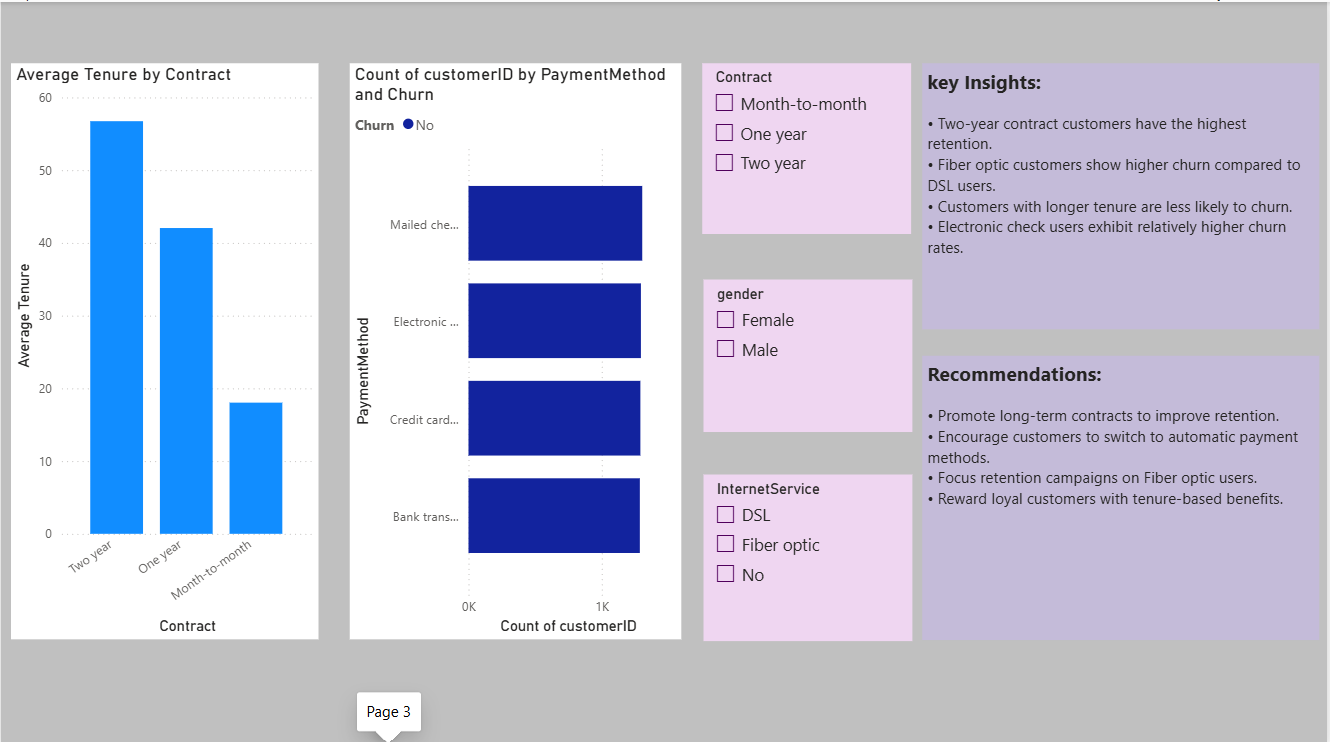

This screenshot's page, from the dashboard's own definition file:
{"tool":"powerbi","page":{"name":"Page 3","canvas":[1280,720],"ordinal":2},"visuals":[{"type":"textbox","box":[889.2,59,382.8,256.6],"z":0},{"type":"textbox","box":[10,290,280,280],"z":1000},{"type":"textbox","box":[889.2,341.7,382.8,274.4],"z":2000},{"type":"clusteredColumnChart","fields":{"Category":["WA_Fn-UseC_-Telco-Customer-Churn.Contract"],"Y":["WA_Fn-UseC_-Telco-Customer-Churn.Average Tenure"]},"box":[9.7,59.1,296.8,556.2],"z":3000},{"type":"clusteredBarChart","fields":{"Category":["WA_Fn-UseC_-Telco-Customer-Churn.PaymentMethod"],"Y":["CountNonNull(WA_Fn-UseC_-Telco-Customer-Churn.customerID)"],"Series":["WA_Fn-UseC_-Telco-Customer-Churn.Churn"]},"box":[336.6,59.1,319.7,556.2],"z":4000},{"type":"slicer","fields":{"Values":["WA_Fn-UseC_-Telco-Customer-Churn.Contract"]},"box":[676.5,59,201.7,164.7],"z":5000},{"type":"slicer","fields":{"Values":["WA_Fn-UseC_-Telco-Customer-Churn.gender"]},"box":[677.9,267.6,201.7,146.8],"z":6000},{"type":"slicer","fields":{"Values":["WA_Fn-UseC_-Telco-Customer-Churn.InternetService"]},"box":[677.9,455.6,201.7,160.5],"z":7000}]}

Visuals, with their boxes in screenshot pixels (x1, y1, x2, y2), scaled from the page's 1280x720 canvas onto the 1330x742 screenshot:
textbox: (x1=924, y1=61, x2=1322, y2=325)
textbox: (x1=10, y1=299, x2=301, y2=587)
textbox: (x1=924, y1=352, x2=1322, y2=635)
clusteredColumnChart - WA_Fn-UseC_-Telco-Customer-Churn.Contract x WA_Fn-UseC_-Telco-Customer-Churn.Average Tenure: (x1=10, y1=61, x2=318, y2=634)
clusteredBarChart - WA_Fn-UseC_-Telco-Customer-Churn.PaymentMethod x CountNonNull(WA_Fn-UseC_-Telco-Customer-Churn.customerID): (x1=350, y1=61, x2=682, y2=634)
slicer - WA_Fn-UseC_-Telco-Customer-Churn.Contract: (x1=703, y1=61, x2=913, y2=231)
slicer - WA_Fn-UseC_-Telco-Customer-Churn.gender: (x1=704, y1=276, x2=914, y2=427)
slicer - WA_Fn-UseC_-Telco-Customer-Churn.InternetService: (x1=704, y1=470, x2=914, y2=635)
